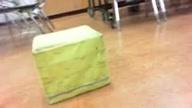cube: (31, 24, 110, 104)
